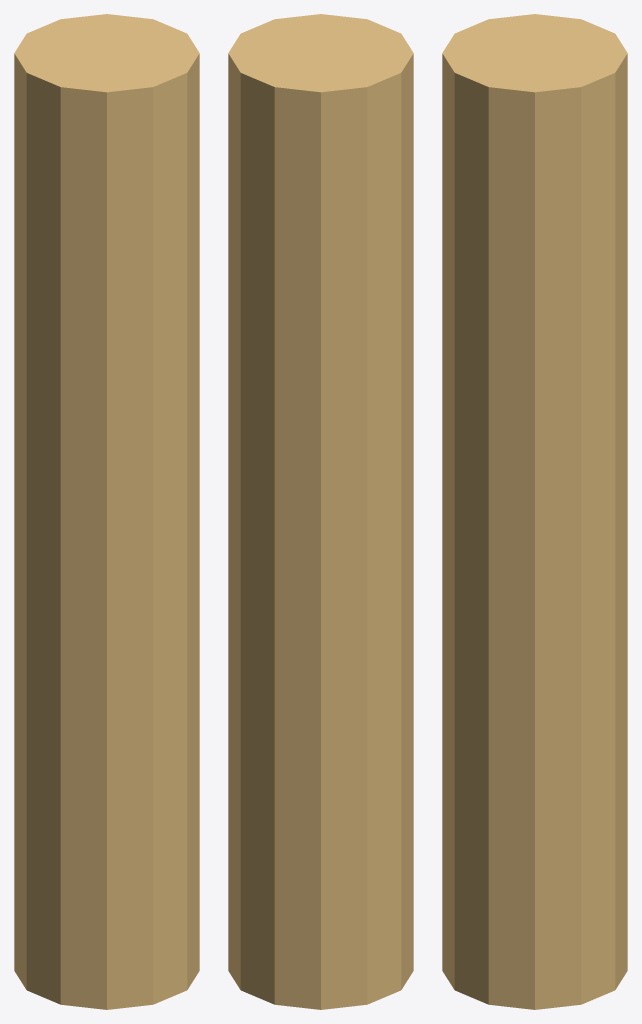
File: Center_Column.obj
3 views of the same model, side by side, from view 1: azimuth 30°, elevation 25°; view 2: azimuth 150°, elevation 25°; view 3: azimuth 270°, elevation 25° (orthographic).
Visible parts, largest first — view 1: Center_Column; view 2: Center_Column; view 3: Center_Column.
Part boxes in pixels (<box>): Center_Column: <box>14,14,199,1009</box>; Center_Column: <box>228,14,413,1009</box>; Center_Column: <box>442,14,627,1009</box>.
Bounding box in the file's own units: 0.76 × 4.15 × 0.76.
